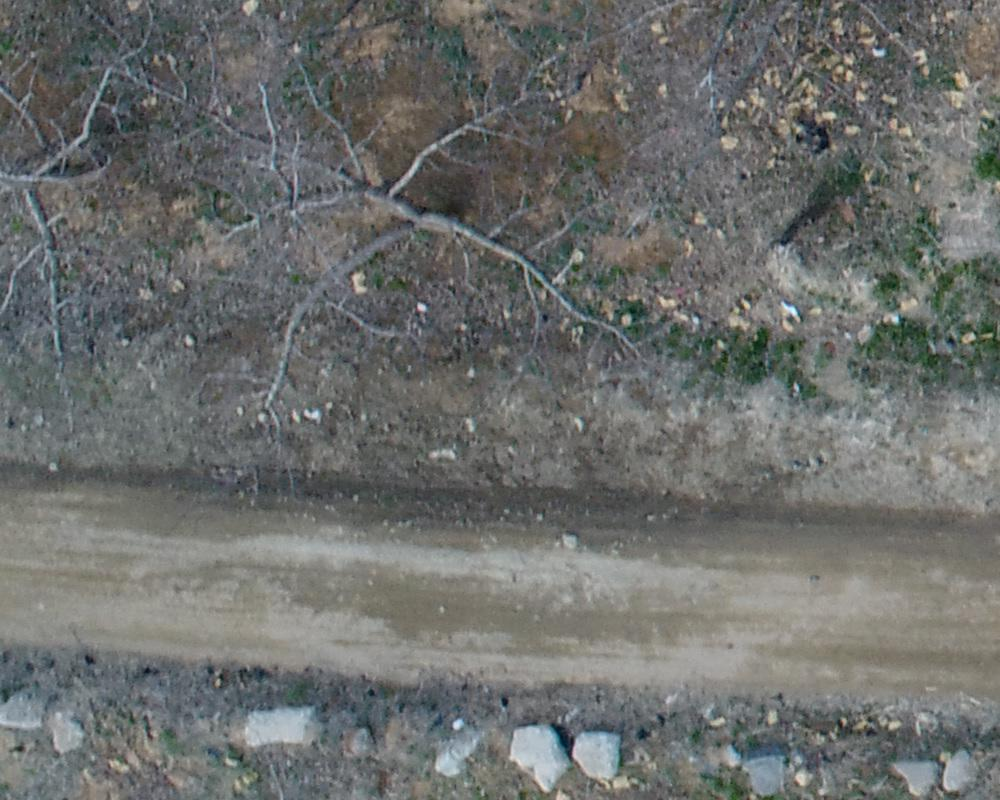apple: (141, 72, 651, 425)
